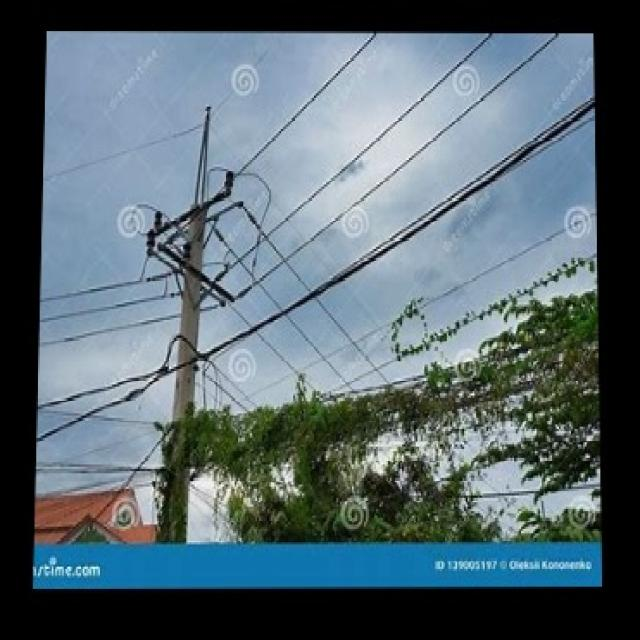critical vegetation: (158, 352, 597, 484)
